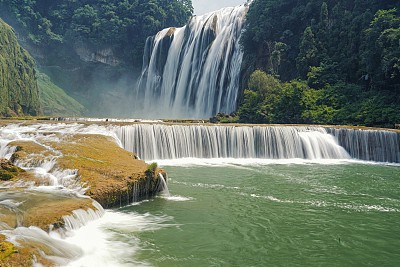Huangguoshu: (138, 4, 244, 120)
